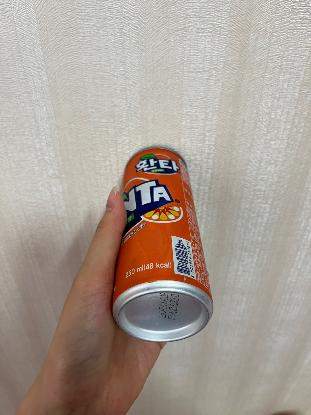Can: (109, 145, 218, 345)
